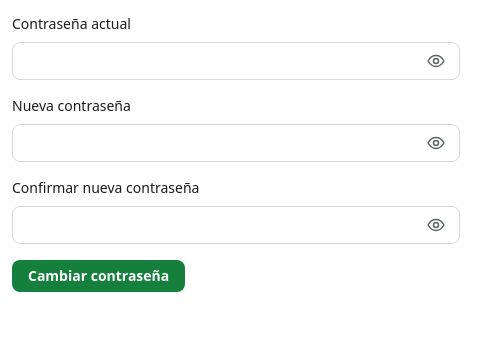
Test case: ProfilePasswordForm › verifies and updates the password on success
Type "actual123" into the password field labelled "Contraseña actual" at [236, 61], box 12,42 -> 460,80
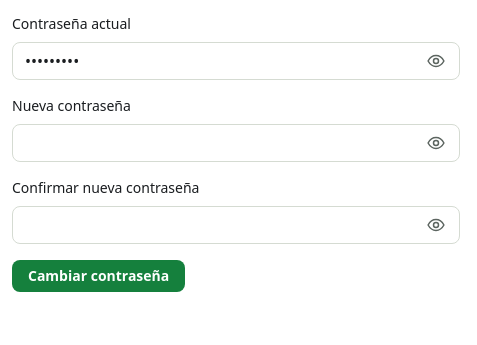
Type "nuevaClave1" into the password field labelled "Nueva contraseña" at [236, 143], box 12,124 -> 460,162
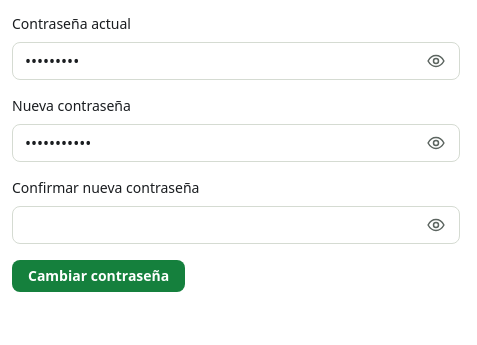
Type "nuevaClave1" into the password field labelled "Confirmar nueva contraseña" at [236, 225], box 12,206 -> 460,244
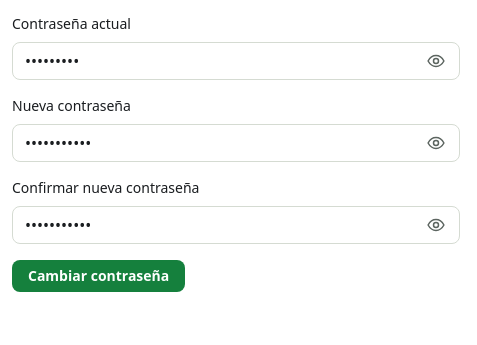
Submit the form
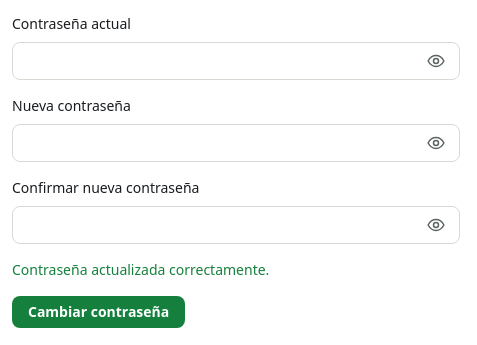
Expected: the form shows "Contraseña actualizada correctamente.", 12,260 -> 269,279
Expected: the password field labelled "Contraseña actual" is empty, 12,42 -> 460,80
Expected: the password field labelled "Nueva contraseña" is empty, 12,124 -> 460,162
